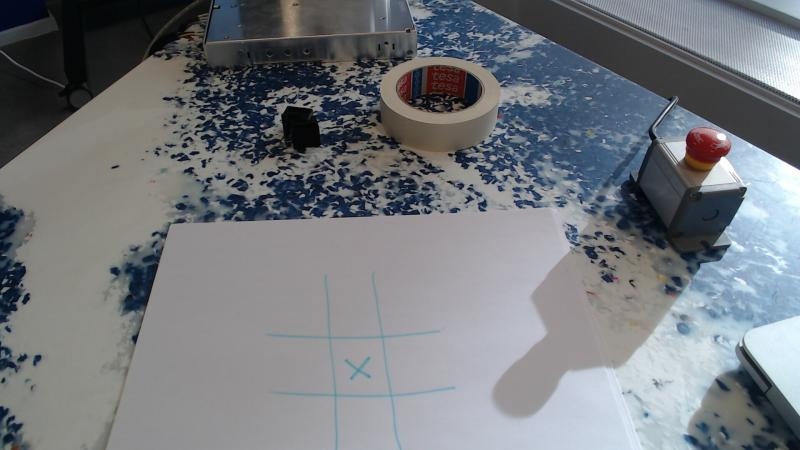X: (340, 346, 379, 385)
grid: (249, 262, 462, 450)
